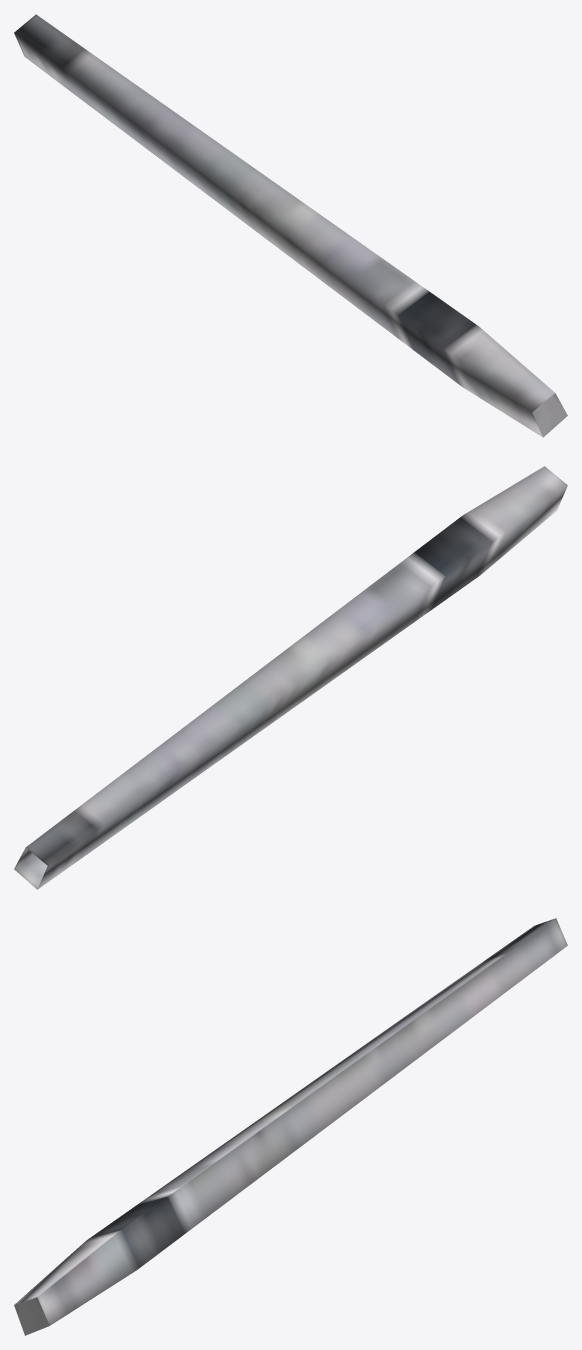
Rendered from spacestation_turret_barrel02_s01_l2.fbx.
3 views of the same model, one above another, from view 1: azimuth 30°, elevation 25°; view 2: azimuth 150°, elevation 25°; view 3: azimuth 330°, elevation 25° (orthographic).
Visible parts, largest first — view 1: mesh_node; view 2: mesh_node; view 3: mesh_node.
Boxes of the visible parts, bbox=[...] form: mesh_node: bbox=[14, 14, 567, 437]; mesh_node: bbox=[14, 466, 567, 889]; mesh_node: bbox=[14, 918, 567, 1335].
Size of the model in its own units: 0.4892 by 0.5208 by 8.68.
